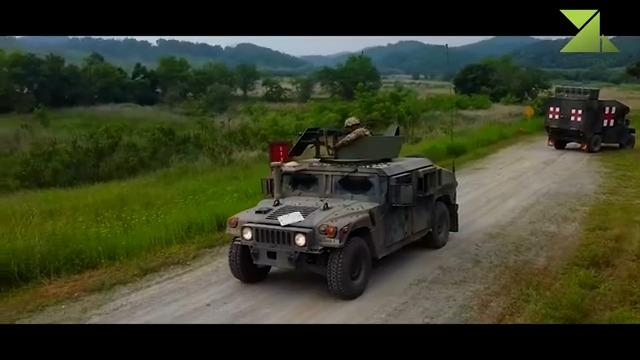MIL_HMMWV: (224, 155, 461, 301), (544, 97, 637, 153), (325, 115, 371, 150)
